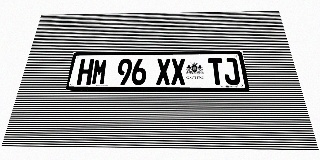6: (131, 58, 147, 85)
9: (116, 59, 132, 85)
H: (76, 59, 94, 85)
J: (222, 58, 241, 85)
M: (91, 59, 108, 85)
T: (208, 58, 225, 85)
X: (156, 58, 171, 85), (171, 58, 186, 85)
